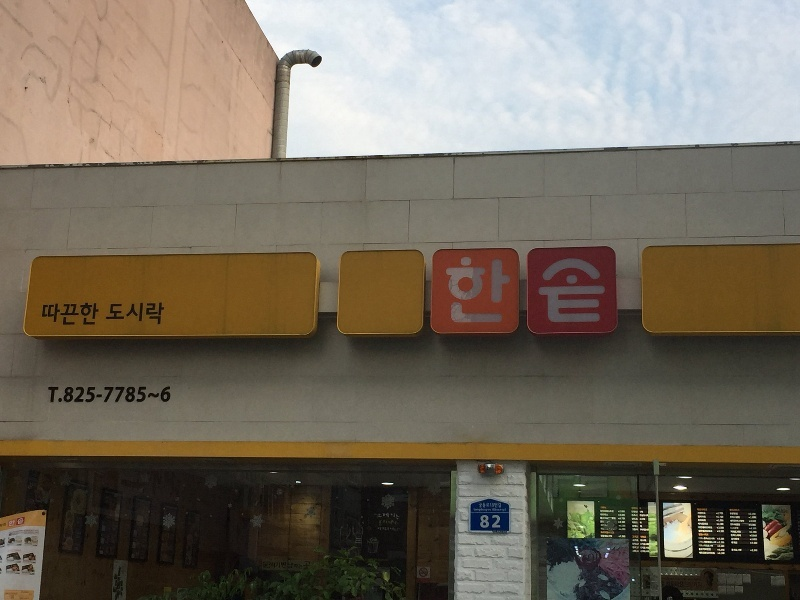text: (449, 256, 464, 324), (465, 256, 480, 324), (481, 256, 496, 324), (545, 257, 560, 325), (561, 257, 576, 325), (577, 257, 592, 325), (497, 256, 511, 324), (593, 257, 605, 325), (705, 507, 720, 556), (721, 507, 736, 556), (737, 507, 752, 556), (609, 506, 624, 539), (537, 257, 544, 325), (631, 507, 640, 554), (641, 507, 650, 554), (696, 507, 704, 556), (49, 301, 64, 325), (65, 301, 80, 325), (81, 301, 96, 325), (113, 302, 128, 326), (129, 302, 144, 326), (145, 302, 160, 326), (49, 384, 64, 405), (65, 384, 80, 405), (81, 384, 96, 405), (97, 384, 112, 405), (113, 384, 128, 405), (129, 384, 144, 405), (145, 384, 160, 405), (600, 506, 608, 539), (753, 507, 758, 556), (161, 384, 172, 405), (481, 515, 496, 530), (445, 256, 448, 324), (17, 590, 32, 600), (385, 512, 401, 521), (273, 561, 288, 570), (385, 519, 401, 527), (289, 561, 303, 570), (43, 301, 48, 325), (107, 302, 112, 326), (161, 302, 166, 326), (17, 517, 32, 525), (481, 502, 496, 509), (385, 525, 400, 532), (17, 529, 32, 536), (6, 590, 16, 600), (374, 512, 384, 521), (305, 560, 312, 571), (481, 508, 496, 513), (97, 301, 100, 325), (694, 582, 704, 589), (625, 506, 627, 539), (679, 581, 688, 588), (497, 515, 501, 530), (1, 524, 16, 528), (377, 519, 384, 527), (9, 519, 16, 527), (3, 523, 16, 527), (377, 525, 384, 532), (33, 529, 40, 536), (497, 508, 506, 513), (33, 545, 48, 548), (17, 561, 32, 564), (268, 561, 272, 570), (666, 581, 672, 587), (673, 581, 679, 587), (473, 508, 480, 513), (689, 581, 694, 588), (497, 502, 501, 509), (12, 529, 16, 536), (684, 581, 688, 588), (47, 384, 48, 405), (17, 545, 32, 546), (401, 525, 403, 532), (17, 573, 21, 576), (303, 560, 304, 571), (33, 562, 36, 565), (29, 573, 32, 576), (479, 502, 480, 509), (33, 573, 35, 576), (15, 573, 16, 576)
